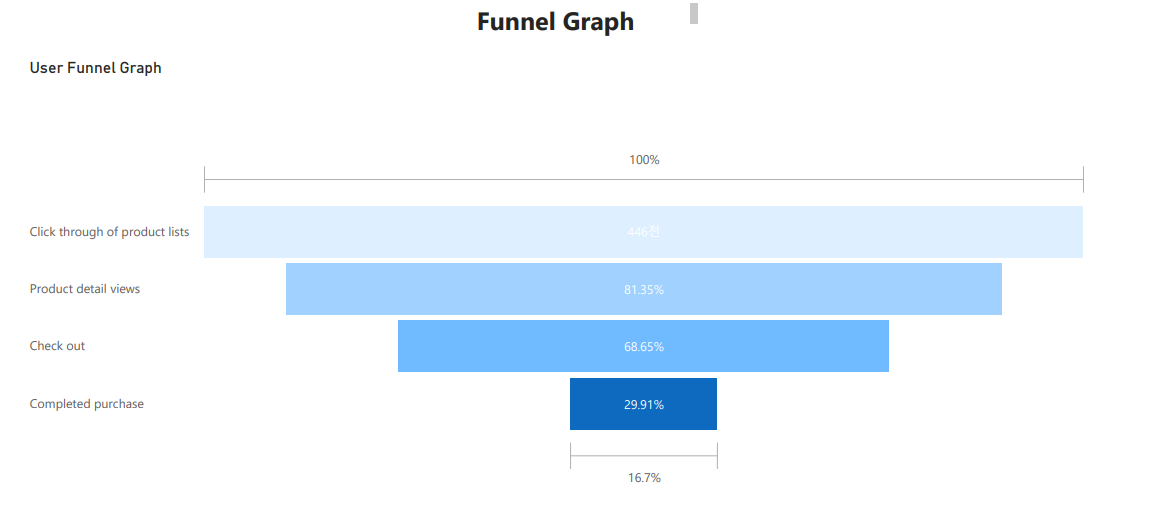

The page's visual inventory and layout, read from the dashboard file:
{"tool":"powerbi","page":{"name":"Funnel Analysis","canvas":[1280,720],"ordinal":3},"visuals":[{"type":"funnel","title":"User Funnel Graph","fields":{"Category":["Funnel Analysis Data.action"],"Y":["Sum(Funnel Analysis Data.users)"]},"box":[71.2,62.5,1137.5,536.2],"z":0},{"type":"textbox","box":[487.5,0,305,43.8],"z":1}]}

Visuals, with their boxes on the page's 1280x720 design canvas (x1, y1, x2, y2). These are canvas units, not pixel positions in the 1153x524 screenshot, which may show the page scaled, cropped or inside an application window:
"User Funnel Graph" funnel: Rect(71, 62, 1209, 599)
textbox: Rect(488, 0, 792, 44)
